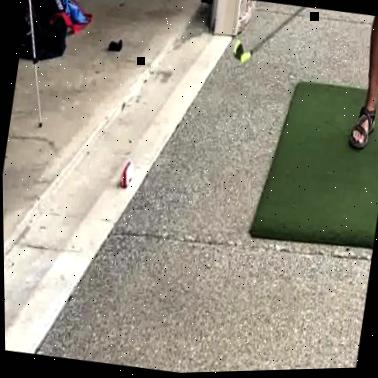GolfBall: (231, 39, 257, 68)
